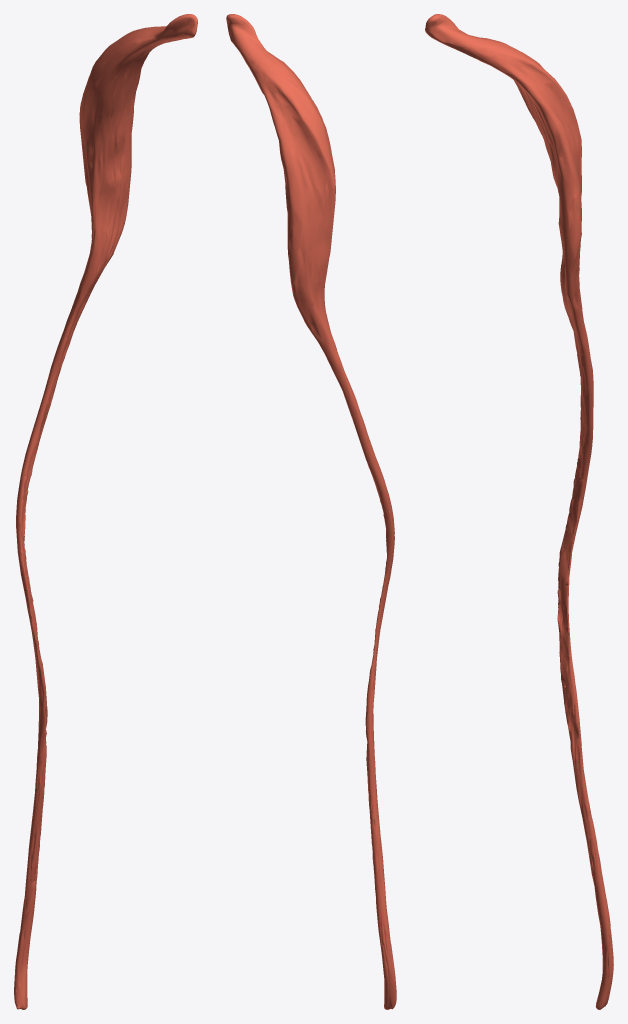
File: plantaris.glb
The picture shows the model from 3 angles, left to right: view 1: azimuth 30°, elevation 25°; view 2: azimuth 210°, elevation 25°; view 3: azimuth 270°, elevation 25°; orthographic projection. The views are drawn at different scales.
Parts seen in each view (by area): view 1: Plantaris muscle.l; view 2: Plantaris muscle.l; view 3: Plantaris muscle.l.
Part boxes in pixels (box(x1,y1,x2,y2)): Plantaris muscle.l: box(14, 14, 197, 1009); Plantaris muscle.l: box(226, 14, 396, 1009); Plantaris muscle.l: box(425, 14, 613, 1009).
Bounding box in the file's own units: 0.0549 × 0.4823 × 0.0797.
